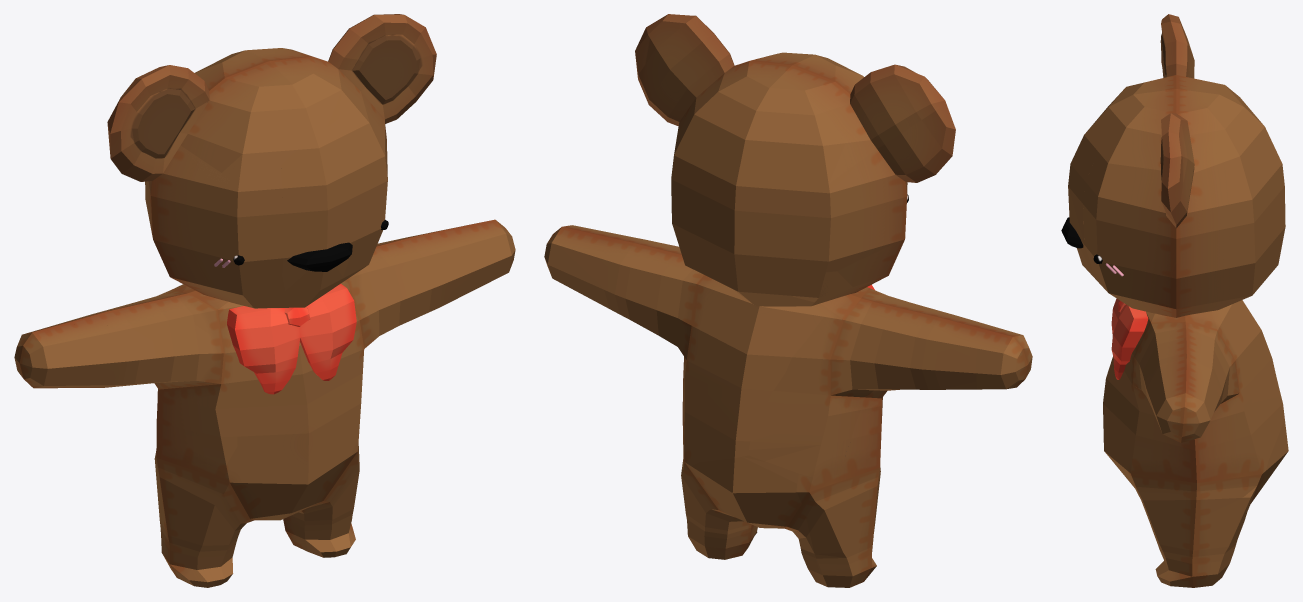
The model's file is FracturedTeddy.fbx.
3 views of the same model, side by side, from view 1: azimuth 30°, elevation 25°; view 2: azimuth 150°, elevation 25°; view 3: azimuth 270°, elevation 25° (orthographic). The views are drawn at different scales.
Parts seen in each view (by area): view 1: Eyes.001, Eyes.001_cell.011, Eyes.001_cell.010, Eyes.001_cell.002, Eyes.001_cell.001, Eyes.001_cell.007, Eyes.001_cell.009, Eyes.001_cell; view 2: Eyes.001, Eyes.001_cell, Eyes.001_cell.010, Eyes.001_cell.013, Eyes.001_cell.007, Eyes.001_cell.005, Eyes.001_cell.001, Eyes.001_cell.008, Eyes.001_cell.002, Eyes.001_cell.009, Eyes.001_cell.015, Eyes.001_cell.006; view 3: Eyes.001, Eyes.001_cell.013, Eyes.001_cell.010, Eyes.001_cell.006, Eyes.001_cell.011, Eyes.001_cell.008.
Part boxes in pixels (<box>): Eyes.001: <box>17,15,515,587</box>; Eyes.001_cell.011: <box>281,119,360,290</box>; Eyes.001_cell.010: <box>195,14,382,149</box>; Eyes.001_cell.002: <box>104,303,237,464</box>; Eyes.001_cell.001: <box>117,65,279,176</box>; Eyes.001_cell.007: <box>154,451,225,587</box>; Eyes.001_cell.009: <box>14,322,90,378</box>; Eyes.001_cell: <box>50,284,186,327</box>; Eyes.001: <box>544,15,1032,587</box>; Eyes.001_cell: <box>749,302,976,477</box>; Eyes.001_cell.010: <box>679,15,877,221</box>; Eyes.001_cell.013: <box>681,455,824,585</box>; Eyes.001_cell.007: <box>797,470,879,587</box>; Eyes.001_cell.005: <box>792,104,955,272</box>; Eyes.001_cell.001: <box>829,64,945,183</box>; Eyes.001_cell.008: <box>644,29,710,122</box>; Eyes.001_cell.002: <box>840,298,979,470</box>; Eyes.001_cell.009: <box>976,322,1029,389</box>; Eyes.001_cell.015: <box>792,271,852,302</box>; Eyes.001_cell.006: <box>635,14,684,126</box>; Eyes.001: <box>1061,14,1287,587</box>; Eyes.001_cell.013: <box>1140,420,1288,587</box>; Eyes.001_cell.010: <box>1091,35,1264,146</box>; Eyes.001_cell.006: <box>1161,121,1183,228</box>; Eyes.001_cell.011: <box>1068,127,1105,275</box>; Eyes.001_cell.008: <box>1182,128,1194,218</box>.
Size of the model in its own units: 216 by 222 by 94.4.
